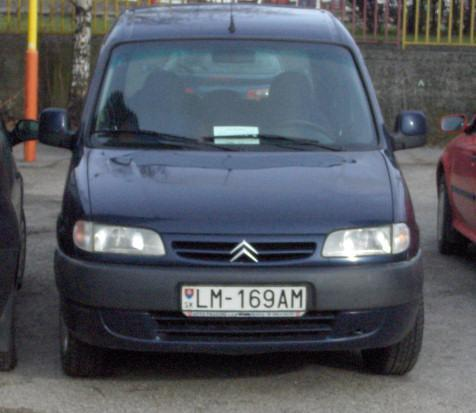placa de veiculo: (169, 278, 323, 329)
